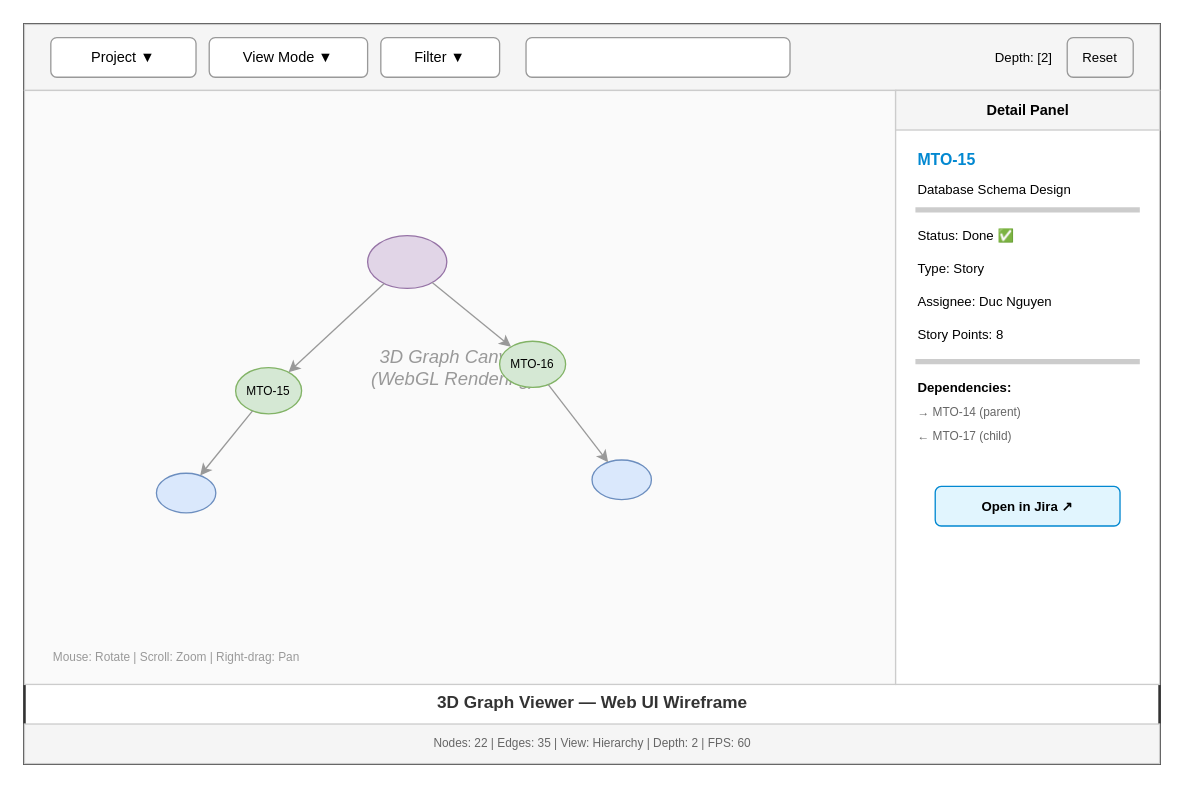
This 1183x787 diagram has some shape labels left out. Each missing label, with the centre of its shape:
MTO-14: point (406, 261)
MTO-17: point (185, 492)
MTO-18: point (621, 479)
🔍 Search tickets...: point (657, 56)
